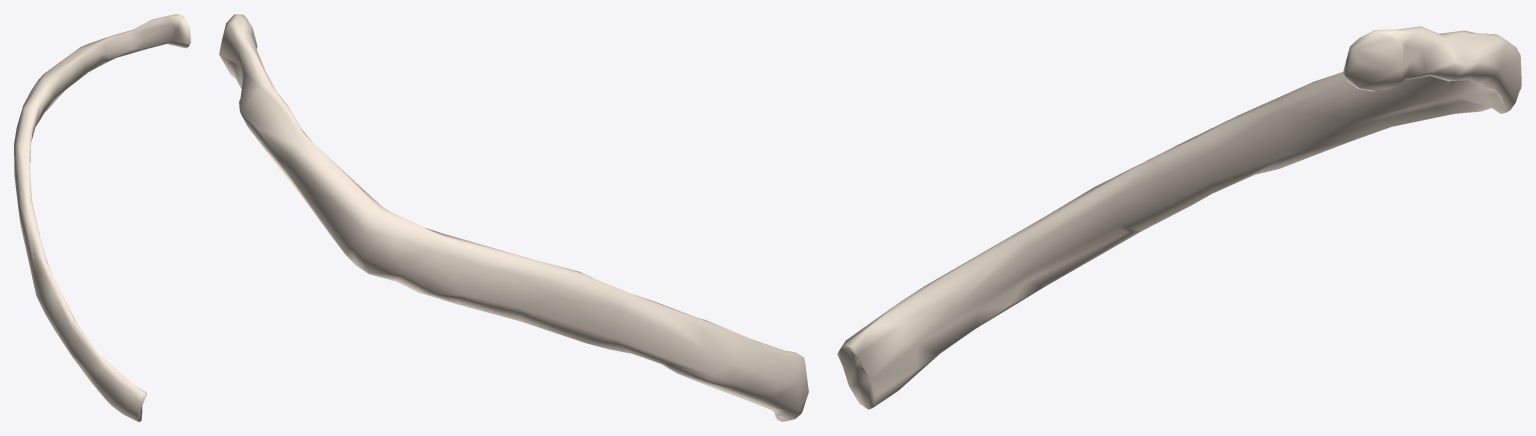
File: right_rib_8.glb
The picture shows the model from 3 angles, left to right: view 1: azimuth 30°, elevation 25°; view 2: azimuth 150°, elevation 25°; view 3: azimuth 270°, elevation 25°; orthographic projection. The views are drawn at different scales.
Visible parts, largest first — view 1: Rib (8th).r; view 2: Rib (8th).r; view 3: Rib (8th).r.
Part boxes in pixels (x1=…): Rib (8th).r: x1=14, y1=14, x2=190, y2=421; Rib (8th).r: x1=219, y1=14, x2=808, y2=421; Rib (8th).r: x1=837, y1=26, x2=1521, y2=409.
Bounding box in the file's own units: 0.1143 × 0.1425 × 0.1631.
